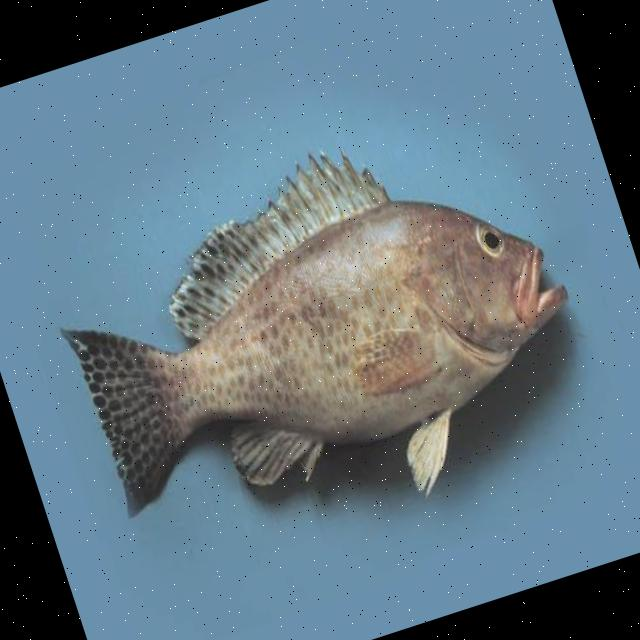ikan: (31, 87, 616, 590)
